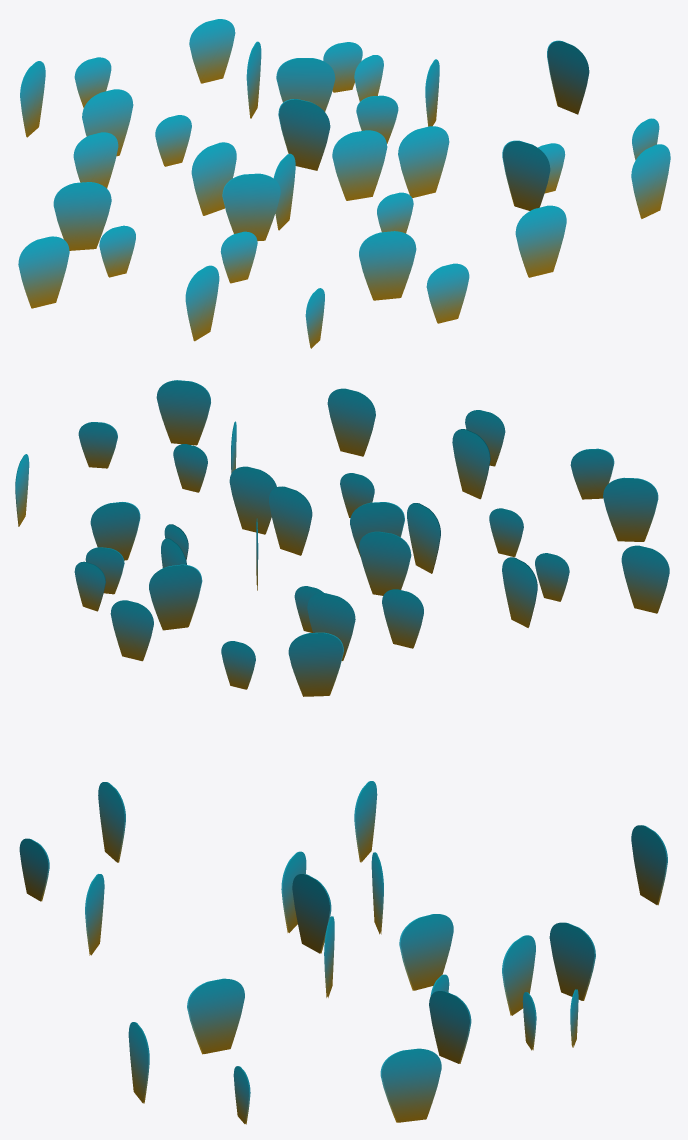
Rendered from Demo_cao.FBX.
The picture shows the model from 3 angles, top to bottom: view 1: azimuth 30°, elevation 25°; view 2: azimuth 150°, elevation 25°; view 3: azimuth 270°, elevation 25°; orthographic projection. The views are drawn at different scales.
Visible parts, largest first — view 1: Demo_cao; view 2: Demo_cao; view 3: Demo_cao.
Boxes of the visible parts, x1,y1,x2,y2 form: Demo_cao: (18, 19, 670, 348); Demo_cao: (15, 380, 669, 696); Demo_cao: (19, 781, 667, 1124).
Size of the model in its own units: 0.584 by 0.0585 by 0.4876.
